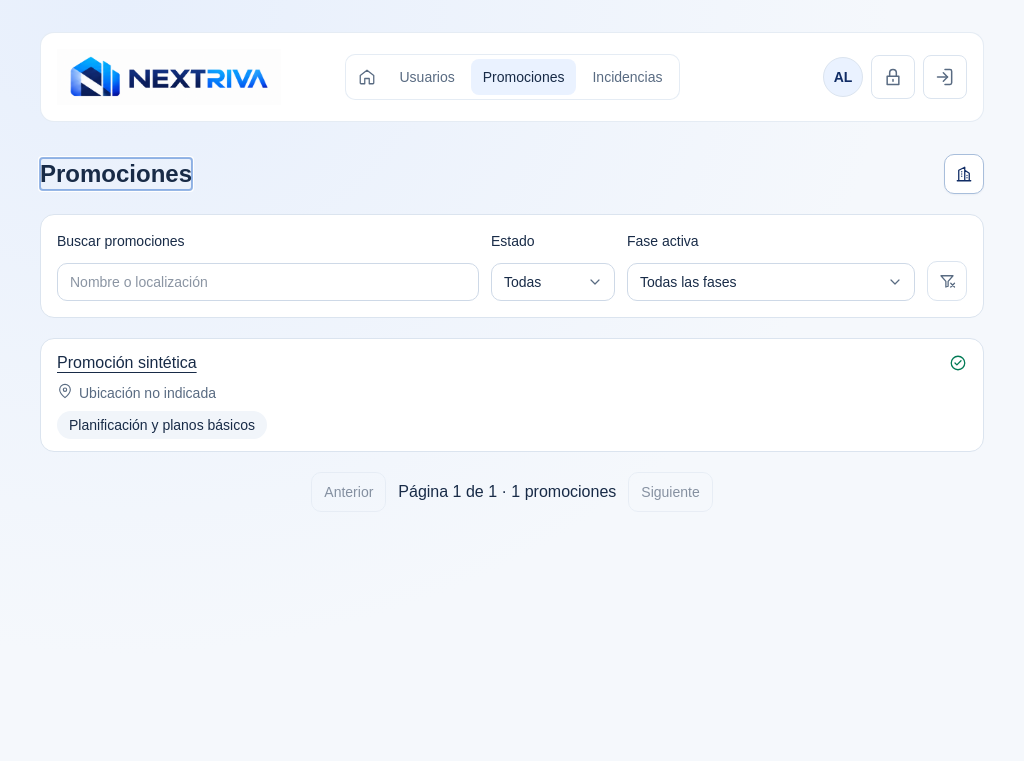
rejects invalid Nombre without requesting CSRF or writing
Step 1. Click the button named "Crear promoción" → x=964, y=174, box [944,154,984,194]
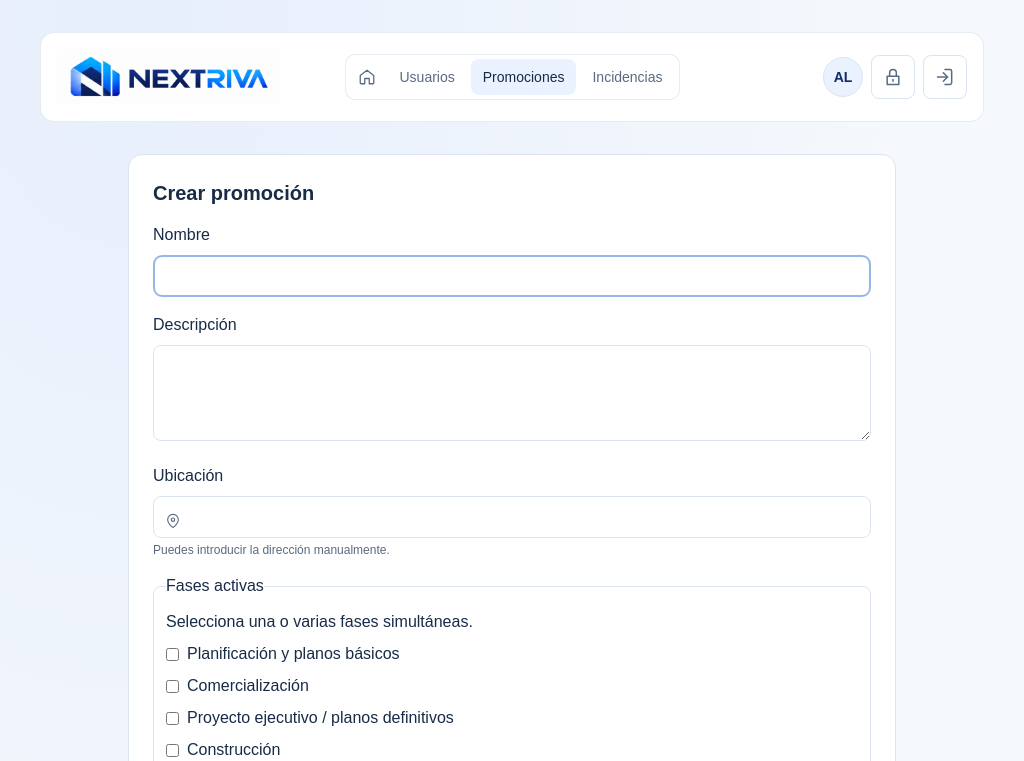
Step 2. Type "Promoción válida" into the field labelled "Nombre" → x=512, y=276, box [153,255,871,297]
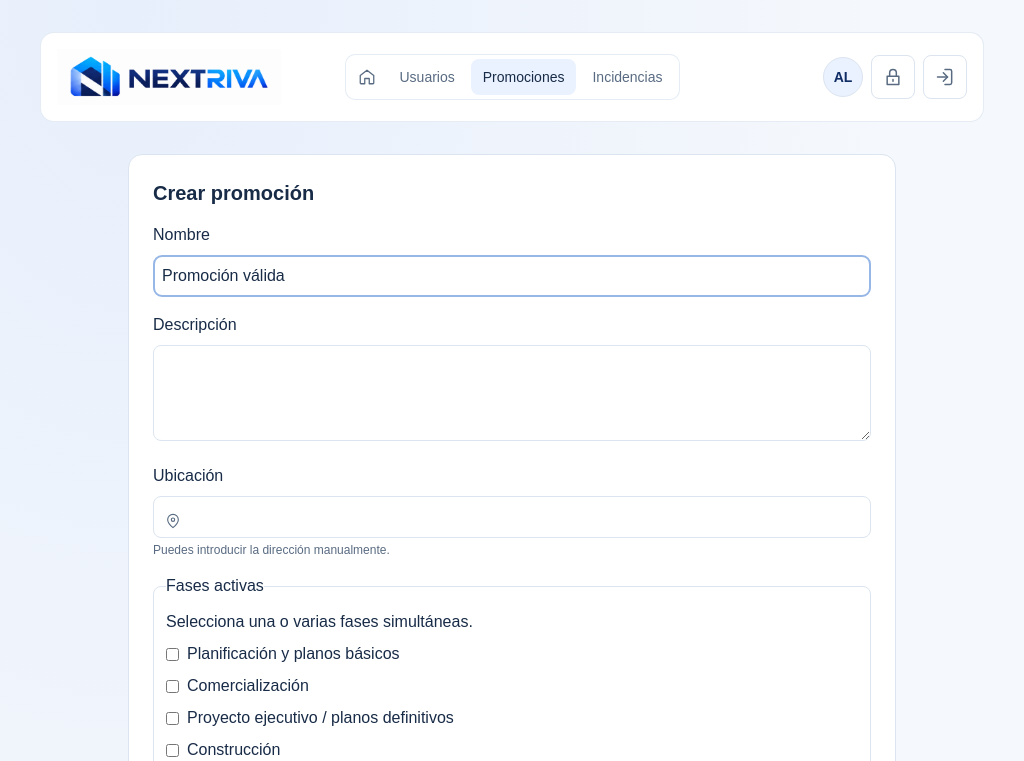
Step 3. Click the checkbox labelled "Planificación y planos básicos" → x=172, y=654, box [166,648,179,660]
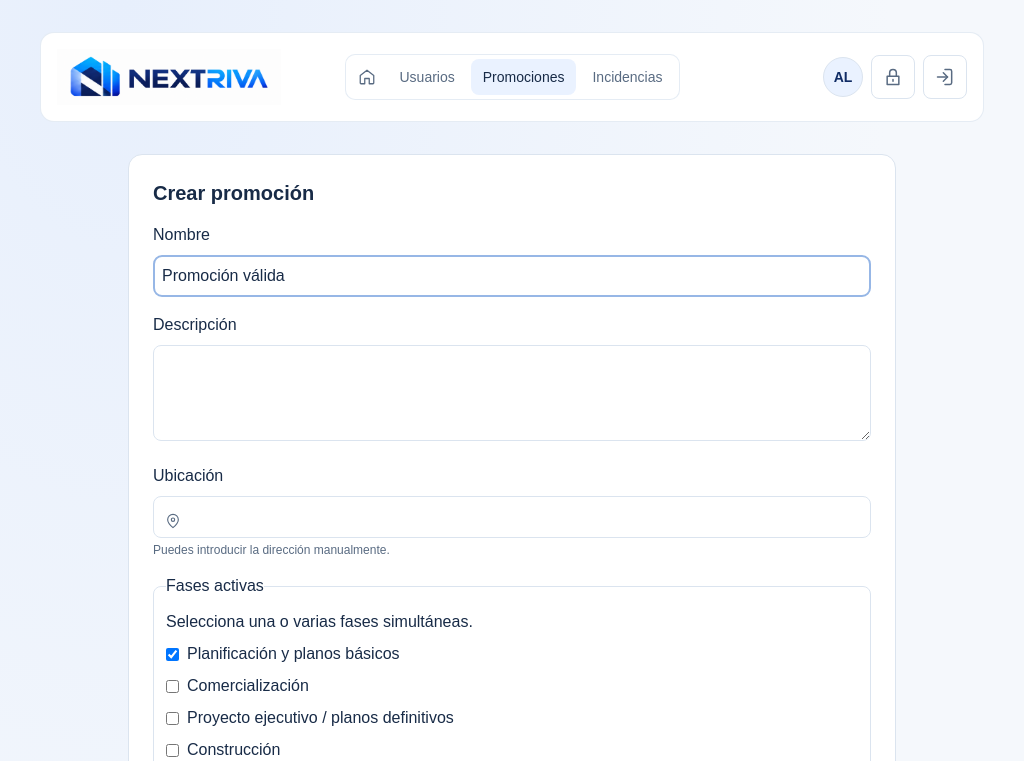
Step 4. Replace the text in the field labelled "Nombre" with "ab" → x=512, y=276, box [153,255,871,297]
(page scrolled)
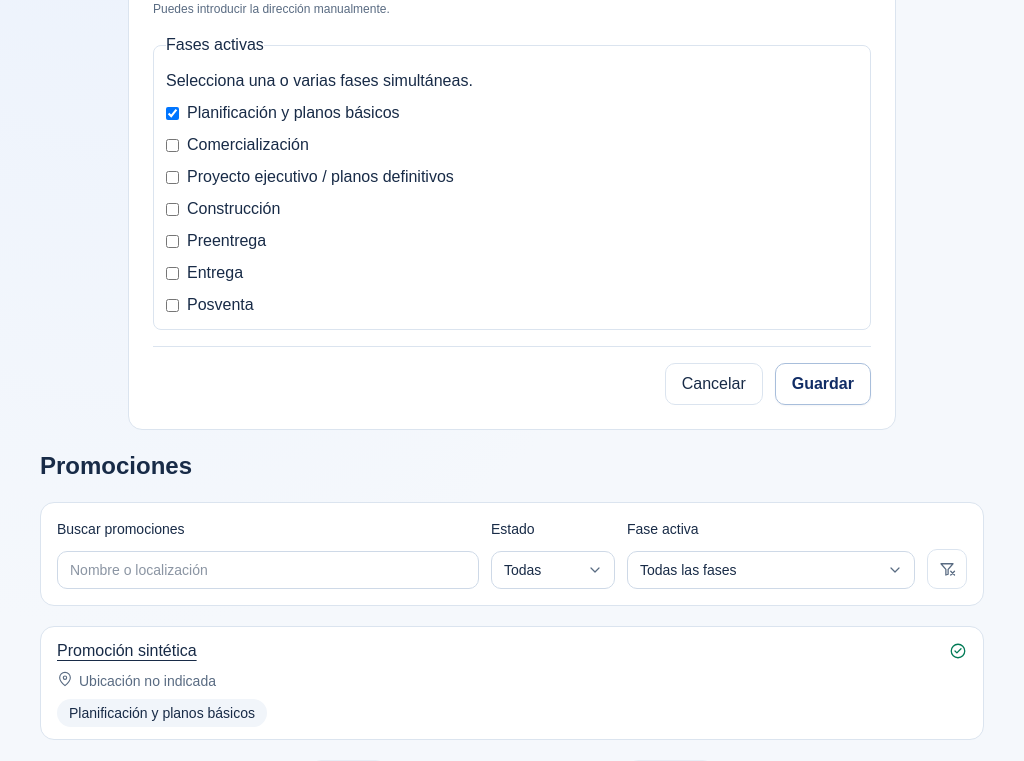
Step 5. Click the button "Guardar" → x=823, y=384, box [775,363,871,405]
(page scrolled)
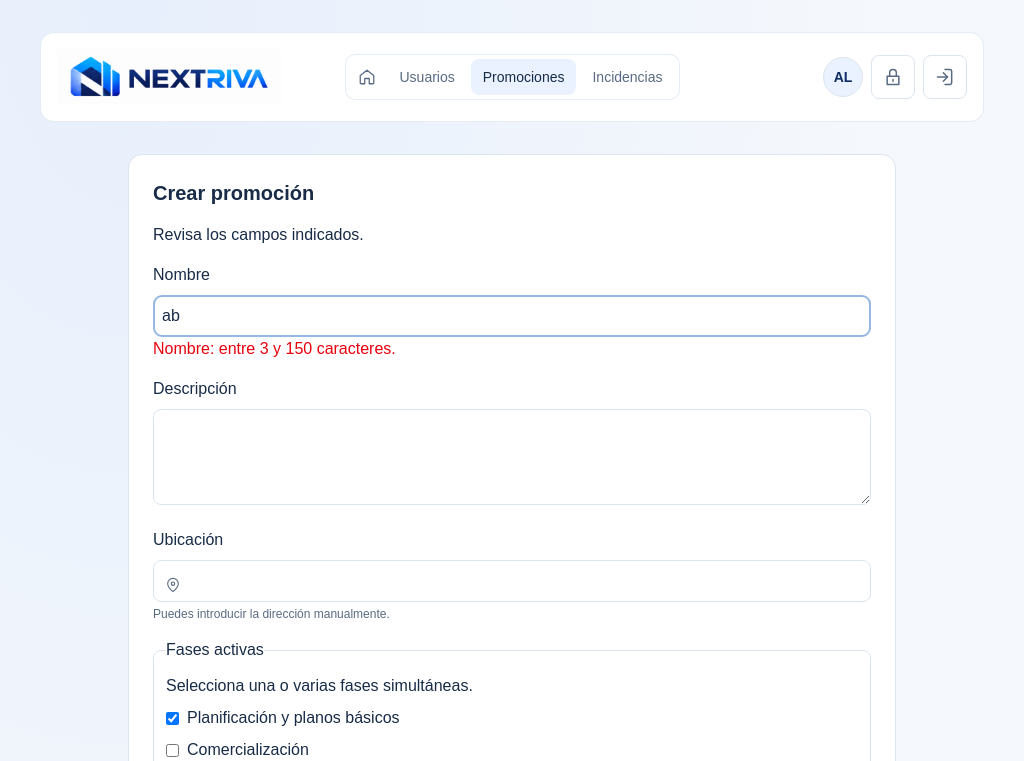
Expected: the text "Nombre: entre 3 y 150 caracteres." is shown, [153,340,396,357]
